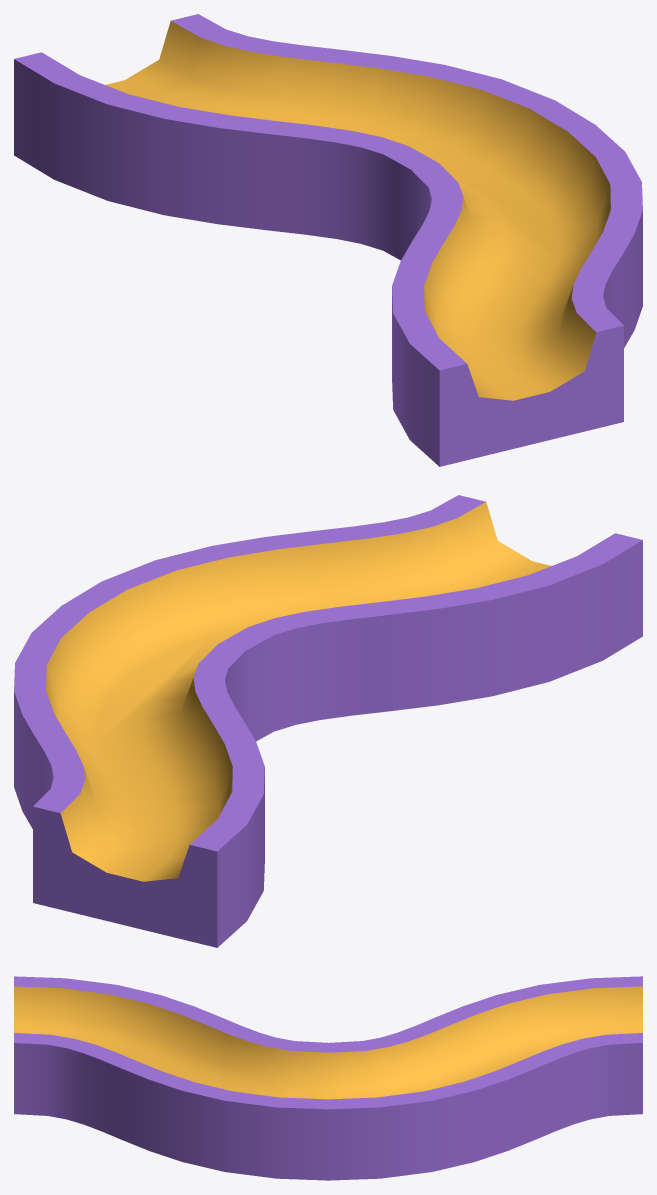
File: kenney-marble-wave-c.glb
3 renders of one model, top to bottom at view 1: azimuth 30°, elevation 25°; view 2: azimuth 150°, elevation 25°; view 3: azimuth 270°, elevation 25°, orthographic. The views are drawn at different scales.
Parts seen in each view (by area): view 1: wave-c; view 2: wave-c; view 3: wave-c.
Part boxes in pixels (<box>): wave-c: <box>14,14,642,466</box>; wave-c: <box>14,495,642,947</box>; wave-c: <box>14,976,642,1180</box>.
Bounding box in the file's own units: 2 × 0.5 × 4.
Materials: 1 (1 with a texture image).
